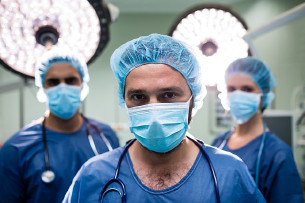face_mask: (124, 67, 191, 153), (40, 63, 84, 119), (222, 74, 259, 121)
